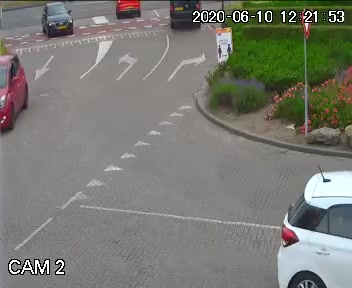car: (278, 157, 352, 288), (0, 49, 40, 136), (40, 3, 76, 42), (164, 3, 206, 32), (109, 0, 145, 20)
